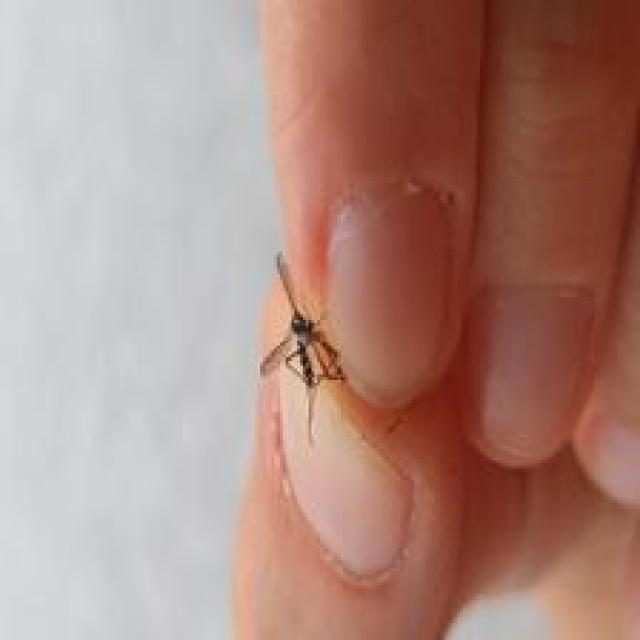Aedes albopictus: (259, 250, 347, 444)
